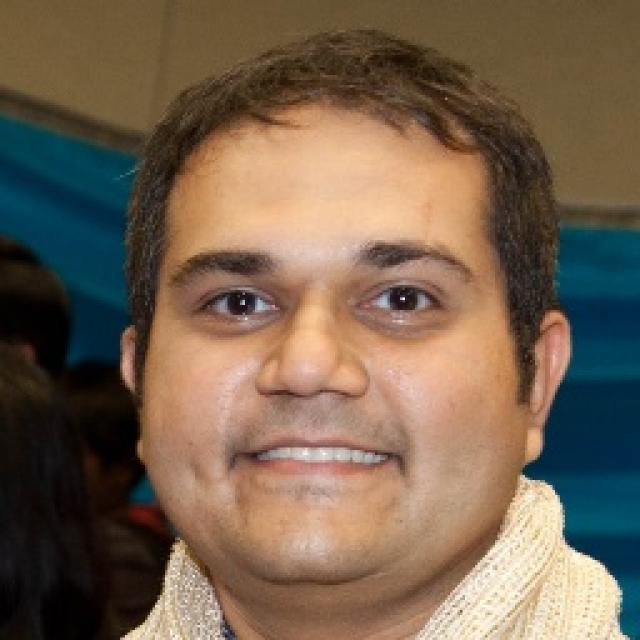earlobe: (520, 412, 547, 466), (131, 428, 152, 468)
eye: (196, 283, 284, 325), (357, 283, 449, 318)
nose: (259, 381, 369, 428)
wholeear: (520, 309, 572, 466), (120, 324, 152, 468)
